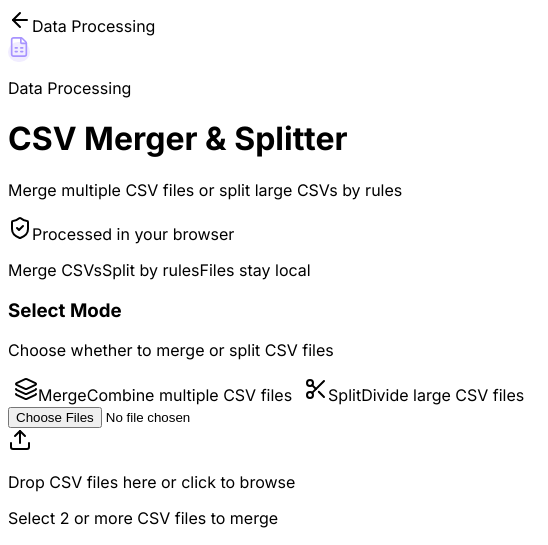
Test: CSV Merger - Mode Switching Tests › should switch from split to merge mode
Click the button "Split" at point(414, 391), box [298, 376, 530, 406]
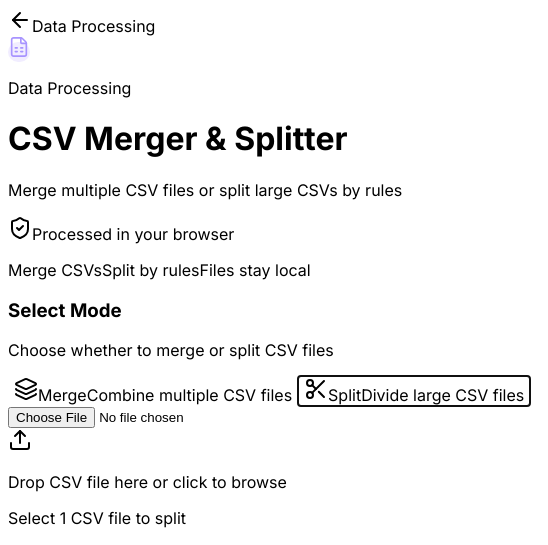
Click the button "Merge" at point(153, 391), box [8, 376, 298, 406]
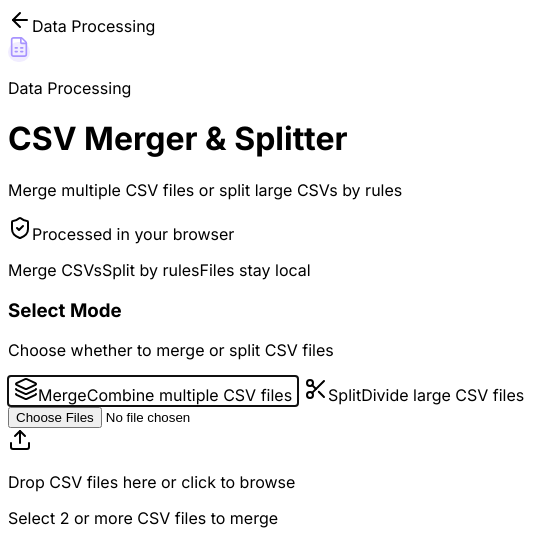
Expected: the text "Select 2 or more CSV files to merge" is shown, [8, 508, 278, 528]
